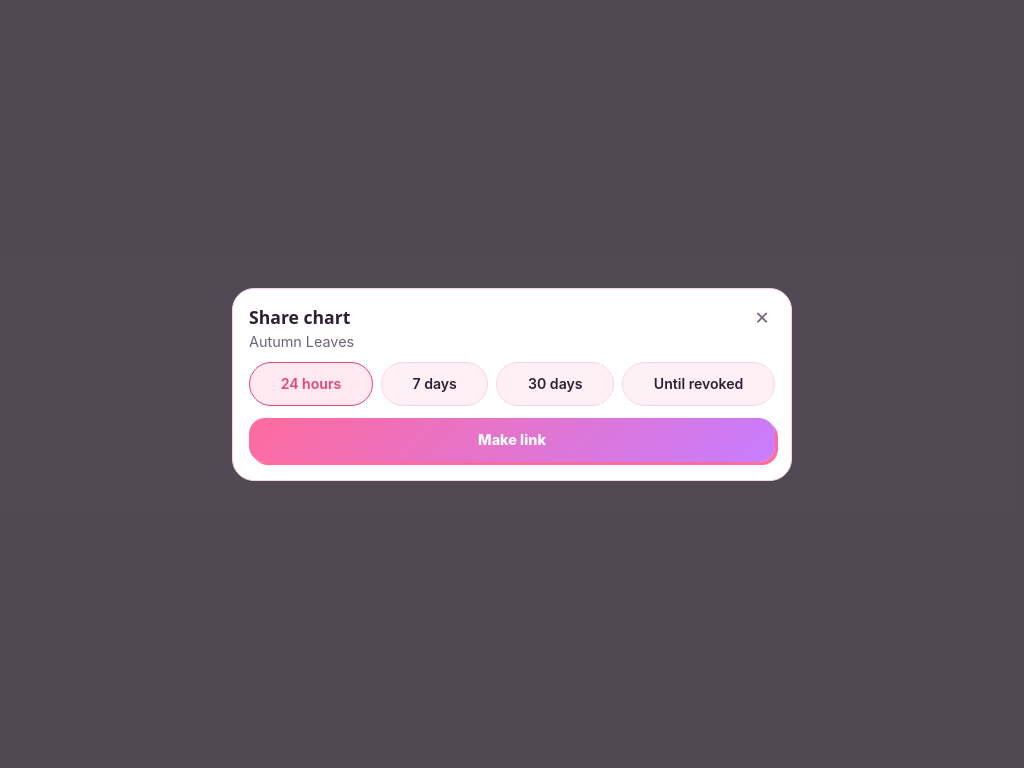
Test: ShareSheet create › says that share pages are not set up, instead of asking to try again
Step 1. Click the button "Make link" → (512, 440), box x1=249 y1=418 x2=775 y2=462
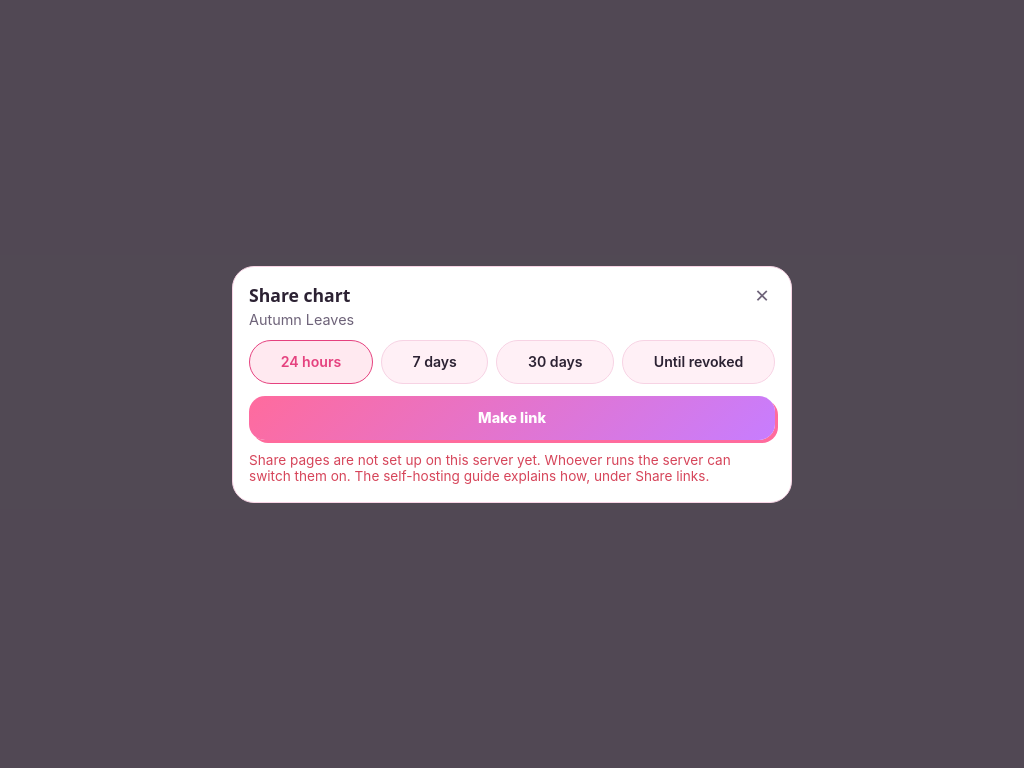
Expected: the text "Share pages are not set up on this server yet" is shown, x1=249 y1=452 x2=731 y2=484
